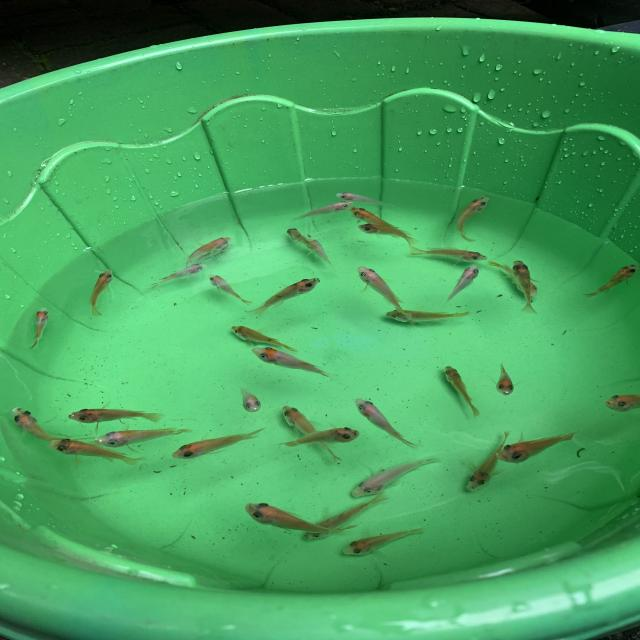nila: (227, 497, 359, 543), (299, 486, 403, 544), (344, 452, 447, 498), (167, 424, 275, 464), (277, 402, 341, 469), (354, 394, 419, 452), (462, 422, 514, 492), (252, 272, 324, 320), (352, 260, 408, 320), (48, 434, 144, 468), (339, 523, 429, 558), (88, 421, 195, 450), (248, 344, 338, 378), (277, 421, 368, 453), (347, 205, 418, 245), (491, 431, 582, 462), (224, 322, 301, 356), (11, 402, 70, 445), (484, 258, 544, 299), (442, 363, 486, 418), (65, 401, 170, 424), (578, 262, 640, 299), (383, 302, 477, 326), (509, 259, 544, 317), (453, 194, 490, 245), (208, 273, 260, 308), (143, 263, 205, 292), (405, 243, 490, 264), (287, 197, 353, 223), (88, 267, 119, 320), (442, 264, 481, 306), (182, 235, 230, 266), (354, 221, 417, 244), (304, 234, 340, 270), (331, 190, 402, 207), (27, 304, 49, 352), (191, 243, 237, 264), (491, 361, 518, 396), (283, 225, 319, 251), (236, 383, 264, 414), (599, 393, 640, 413)
